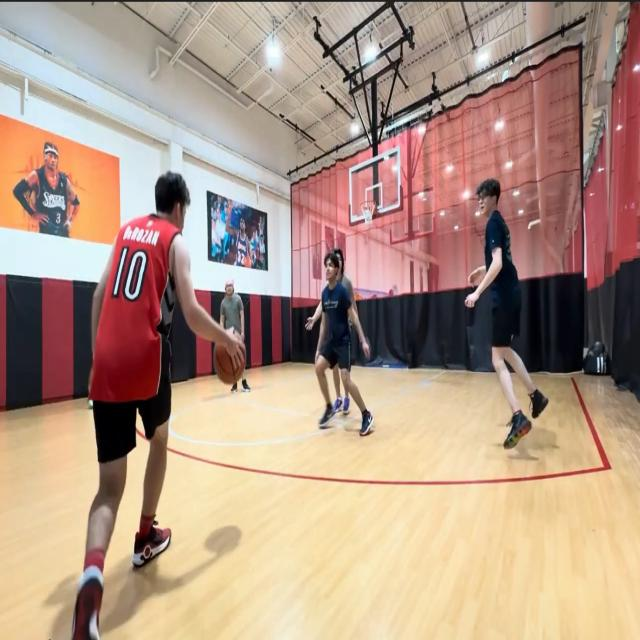Basketball: (212, 336, 248, 386)
Basketball Rim: (360, 200, 376, 223)
Player: (73, 172, 248, 640), (461, 178, 554, 456), (315, 255, 377, 446), (219, 277, 245, 332)
